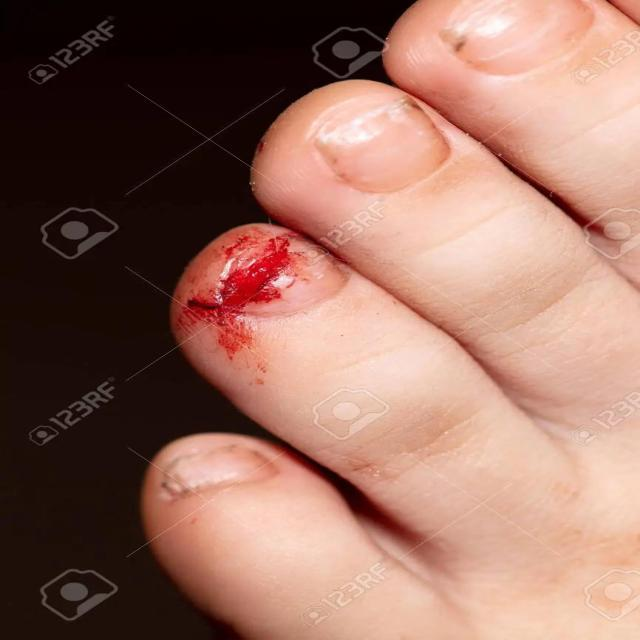flood: (201, 245, 294, 333)
